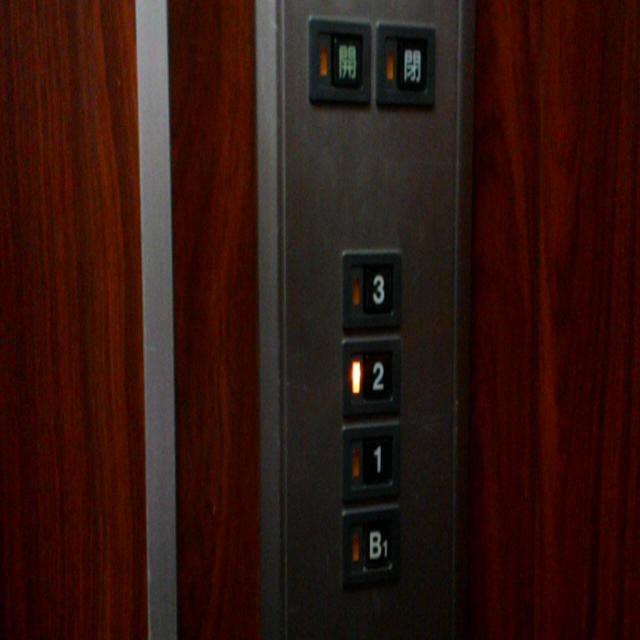1: (341, 421, 402, 508)
2: (338, 334, 403, 422)
3: (340, 244, 402, 332)
B1: (338, 500, 402, 590)
text: (370, 15, 438, 109), (309, 15, 373, 109)
